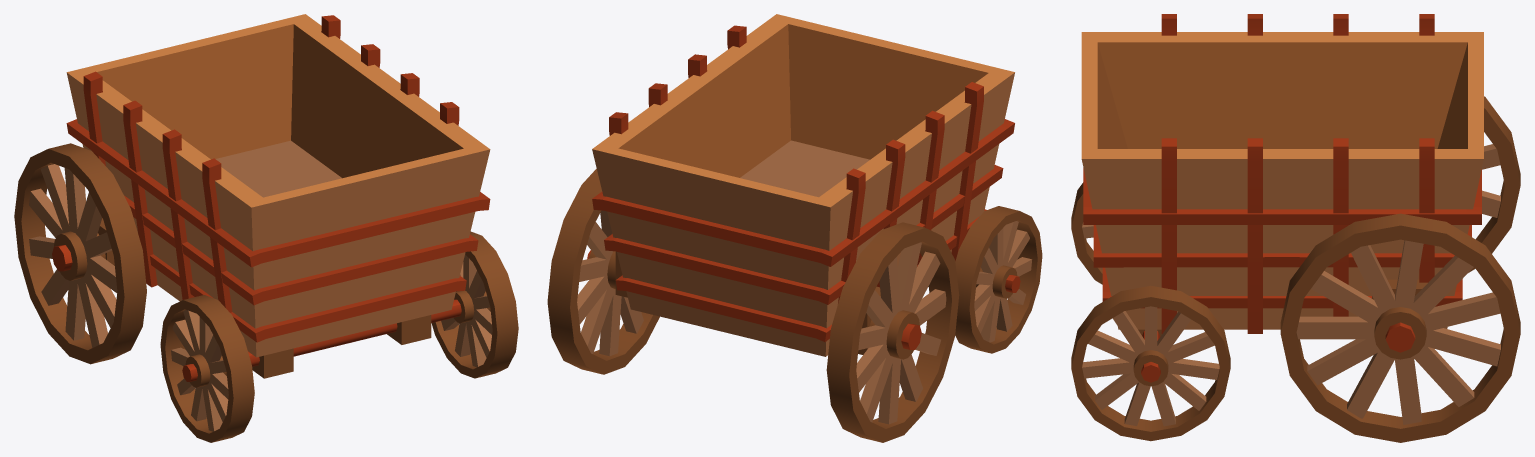
The model's file is Cart.fbx.
3 renders of one model, left to right at view 1: azimuth 30°, elevation 25°; view 2: azimuth 150°, elevation 25°; view 3: azimuth 270°, elevation 25°, orthographic. The views are drawn at different scales.
Visible parts, largest first — view 1: Cart; view 2: Cart; view 3: Cart.
Part boxes in pixels (bbox=[...]): Cart: bbox=[14, 14, 518, 442]; Cart: bbox=[547, 14, 1042, 442]; Cart: bbox=[1071, 14, 1520, 442].
Size of the model in its own units: 207 by 162 by 229.
